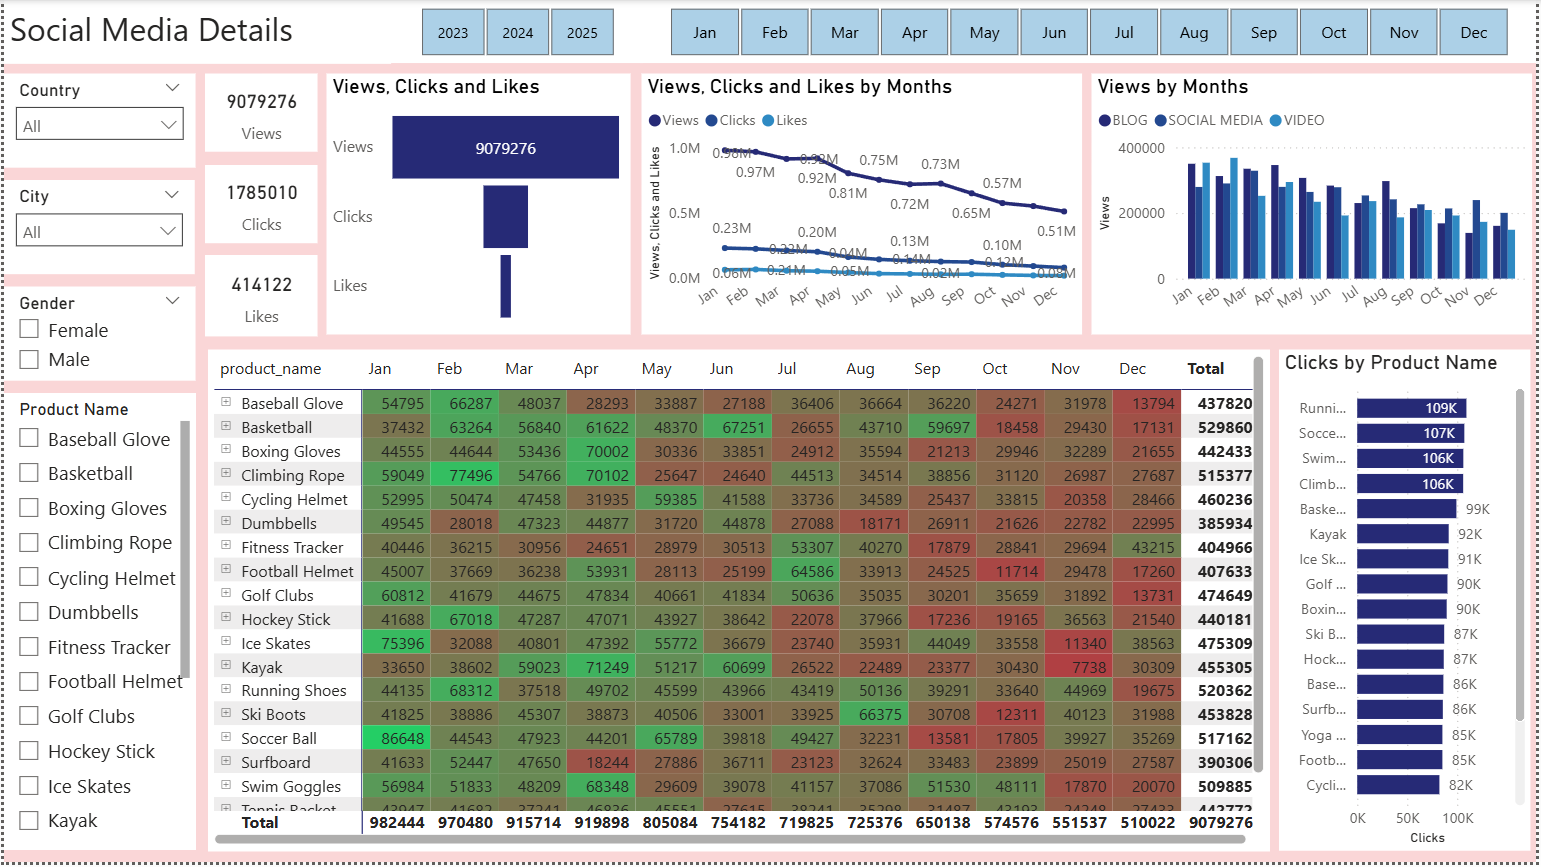

What the dashboard file says about the page in this screenshot:
{"tool":"powerbi","page":{"name":"Social Media Details","canvas":[1280,720],"ordinal":2},"visuals":[{"type":"textbox","box":[0,0,323.3,53.3],"z":0},{"type":"pivotTable","fields":{"Rows":["gold dim_products.product_name","gold fact_engagement_data.content_type"],"Columns":["Calendar.MonthNameShort"],"Values":["_measures.Views"]},"box":[170,291.7,886.7,418.3],"z":1000},{"type":"lineChart","fields":{"Y":["_measures.Views","_measures.Clicks","_measures.Likes"],"Category":["Calendar.MonthNameShort"]},"box":[532,62,368,218],"z":2000},{"type":"funnel","fields":{"Y":["_measures.Views","_measures.Clicks","_measures.Likes"]},"box":[270,62,254,218],"z":3000},{"type":"card","fields":{"Values":["_measures.Views"]},"box":[168.3,61.9,93.9,65],"z":4000},{"type":"card","fields":{"Values":["_measures.Clicks"]},"box":[168.3,137.3,93.9,65],"z":5000},{"type":"card","fields":{"Values":["_measures.Likes"]},"box":[168.3,212.6,93.9,68.1],"z":6000},{"type":"slicer","fields":{"Values":["Calendar.MonthNameShort"]},"box":[531.4,0,748.6,52.9],"z":7000},{"type":"slicer","fields":{"Values":["Calendar.Year"]},"box":[322.9,0,210,52.9],"z":8000},{"type":"clusteredColumnChart","title":"Views by Months","fields":{"Category":["Calendar.MonthNameShort"],"Series":["gold fact_engagement_data.content_type"],"Y":["_measures.Views"]},"box":[908,62,368,218],"z":9000},{"type":"clusteredBarChart","fields":{"Category":["gold dim_products.product_name"],"Y":["_measures.Clicks"]},"box":[1065,291.7,210,418.3],"z":11000},{"type":"slicer","fields":{"Values":["gold dim_customers.city"]},"box":[0,150,159.3,78.3],"z":12000},{"type":"slicer","fields":{"Values":["gold dim_customers.country"]},"box":[0,61.7,160,78.3],"z":13000},{"type":"slicer","fields":{"Values":["gold dim_products.product_name"]},"box":[0,328.6,160,381.4],"z":14000},{"type":"slicer","fields":{"Values":["gold dim_customers.gender"]},"box":[0,239,160,78.6],"z":15000}]}

Visuals, with their boxes in screenshot pixels (x1, y1, x2, y2), scaled from the page's 1280x720 canvas onto the 1541x867 screenshot:
textbox: <bbox>0, 0, 389, 64</bbox>
pivotTable - gold dim_products.product_name x gold fact_engagement_data.content_type: <bbox>205, 351, 1272, 855</bbox>
lineChart - _measures.Views x _measures.Clicks: <bbox>640, 75, 1084, 337</bbox>
funnel - _measures.Views x _measures.Clicks: <bbox>325, 75, 631, 337</bbox>
card - _measures.Views: <bbox>203, 75, 316, 153</bbox>
card - _measures.Clicks: <bbox>203, 165, 316, 244</bbox>
card - _measures.Likes: <bbox>203, 256, 316, 338</bbox>
slicer - Calendar.MonthNameShort: <bbox>640, 0, 1540, 64</bbox>
slicer - Calendar.Year: <bbox>389, 0, 642, 64</bbox>
"Views by Months" clusteredColumnChart: <bbox>1093, 75, 1536, 337</bbox>
clusteredBarChart - gold dim_products.product_name x _measures.Clicks: <bbox>1282, 351, 1535, 855</bbox>
slicer - gold dim_customers.city: <bbox>0, 181, 192, 275</bbox>
slicer - gold dim_customers.country: <bbox>0, 74, 193, 169</bbox>
slicer - gold dim_products.product_name: <bbox>0, 396, 193, 855</bbox>
slicer - gold dim_customers.gender: <bbox>0, 288, 193, 382</bbox>
